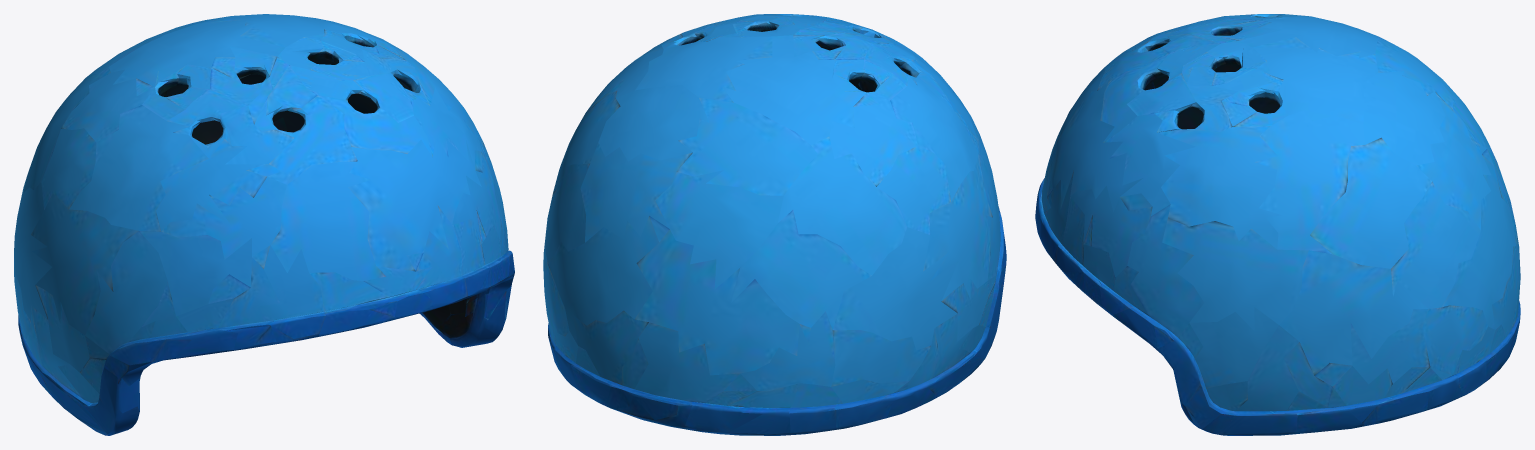
The model's file is udstyr-skaterhjelm.glb.
3 renders of one model, left to right at view 1: azimuth 30°, elevation 25°; view 2: azimuth 150°, elevation 25°; view 3: azimuth 270°, elevation 25°, orthographic. The views are drawn at different scales.
Size of the model in its own units: 1.77 by 1.34 by 1.9.
Materials: 1 (1 with a texture image).
